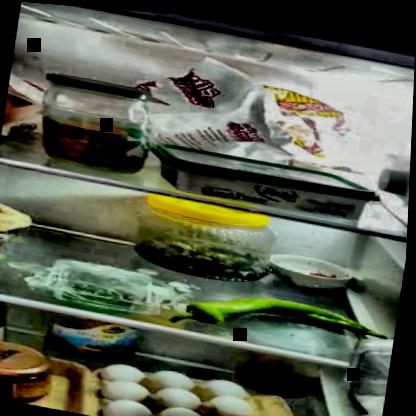cream_cheese: (150, 139, 371, 216)
eggs: (102, 359, 264, 415)
green_chillies: (172, 275, 395, 353)
olives: (138, 219, 269, 278)
